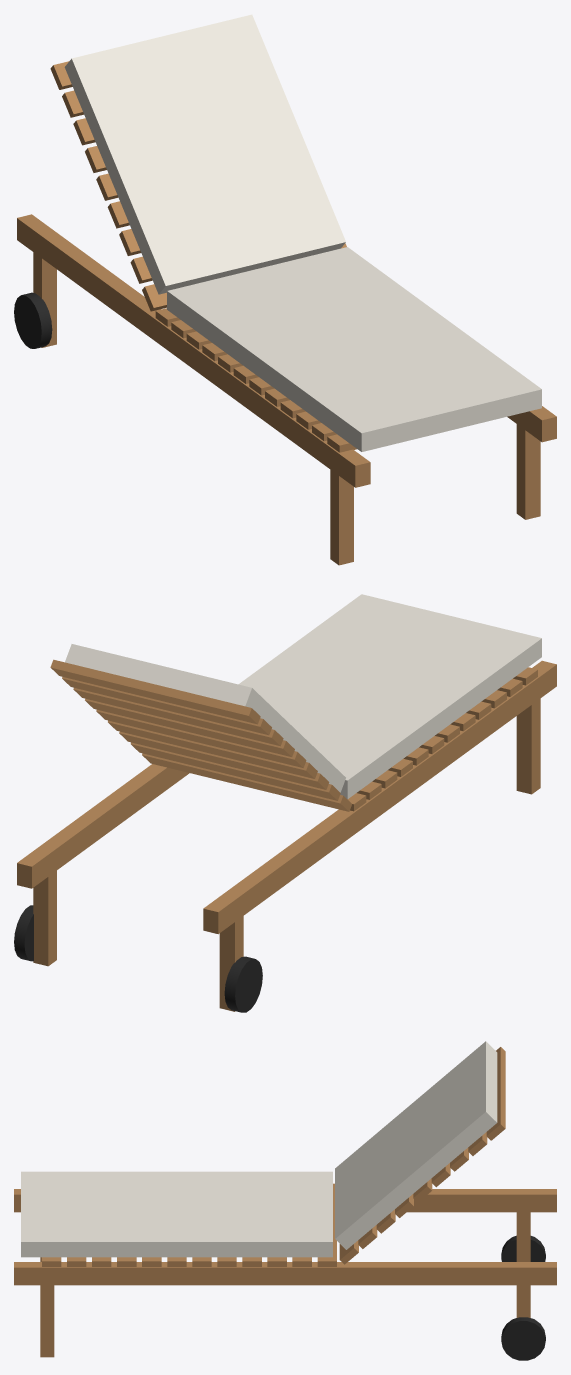
The model's file is p-lettino.glb.
3 views of the same model, one above another, from view 1: azimuth 30°, elevation 25°; view 2: azimuth 150°, elevation 25°; view 3: azimuth 270°, elevation 25° (orthographic). The views are drawn at different scales.
Bounding box in the file's own units: 0.735 × 0.9566 × 1.95.
